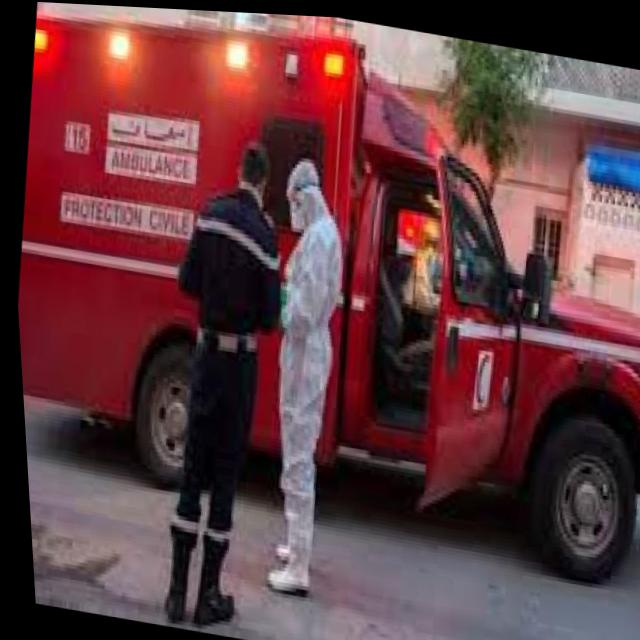ambulance: (0, 0, 640, 598)
